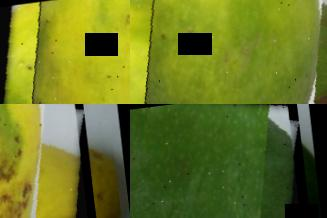PartiallyRipe: (130, 0, 327, 104)
Ripe: (0, 0, 130, 104), (0, 104, 90, 218)
Unripe: (130, 104, 306, 218)
